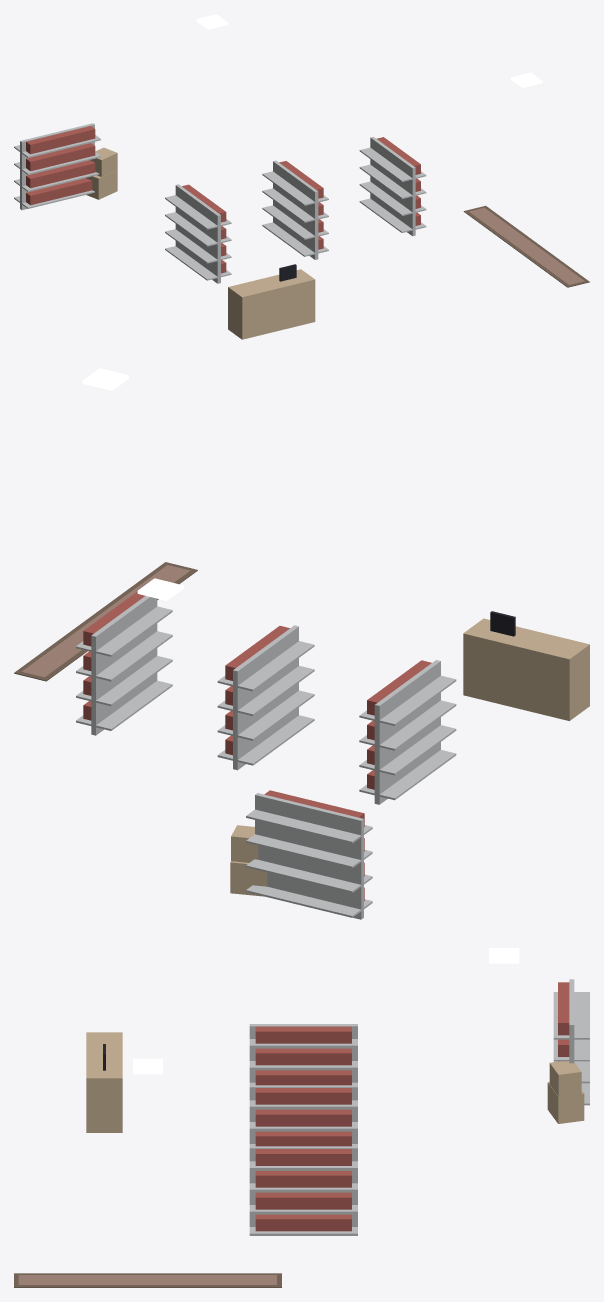
File: fine-s0.glb
The picture shows the model from 3 angles, top to bottom: view 1: azimuth 30°, elevation 25°; view 2: azimuth 150°, elevation 25°; view 3: azimuth 270°, elevation 25°; orthographic projection. The views are drawn at different scales.
Visible parts, largest first — view 1: shelving.000, shop-counter.000, shelf.000, shelf.001, shelf.002, soft-s0, cardboard-box.000; view 2: shelving.000, shop-counter.000, shelf.001, shelf.000, shelf.002, soft-s0, cardboard-box.000; view 3: shelf.002, shelf.000, shelf.001, soft-s0, shop-counter.000, shelving.000, cardboard-box.000, ceiling-lamp.000, ceiling-lamp.001.
Part boxes in pixels (<box>): shelving.000: <box>14,123,100,210</box>; shop-counter.000: <box>228,264,315,339</box>; shelf.000: <box>165,184,231,283</box>; shelf.001: <box>262,160,328,259</box>; shelf.002: <box>359,136,426,236</box>; soft-s0: <box>463,205,589,287</box>; cardboard-box.000: <box>86,147,117,199</box>; shelving.000: <box>246,790,372,919</box>; shop-counter.000: <box>463,611,589,720</box>; shelf.001: <box>217,625,314,770</box>; shelf.000: <box>359,660,456,804</box>; shelf.002: <box>76,591,172,735</box>; soft-s0: <box>14,562,197,681</box>; cardboard-box.000: <box>230,825,267,896</box>; shelf.002: <box>249,1146,357,1235</box>; shelf.000: <box>249,1024,357,1085</box>; shelf.001: <box>249,1085,357,1146</box>; soft-s0: <box>14,1273,281,1287</box>; shop-counter.000: <box>86,1032,122,1132</box>; shelving.000: <box>553,979,589,1105</box>; cardboard-box.000: <box>547,1061,584,1123</box>; ceiling-lamp.000: <box>133,1058,162,1074</box>; ceiling-lamp.001: <box>489,948,519,963</box>.
Bounding box in the file's own units: 8.68 × 3.95 × 9.55.
